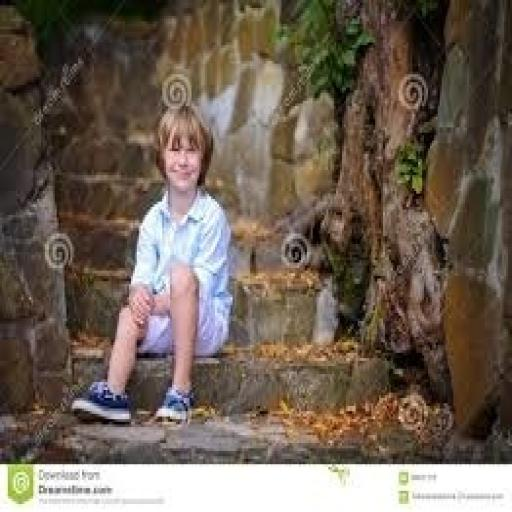sitting: (68, 101, 234, 427)
